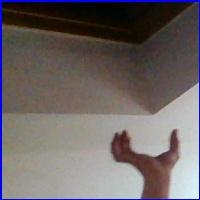space: (104, 125, 189, 178)
